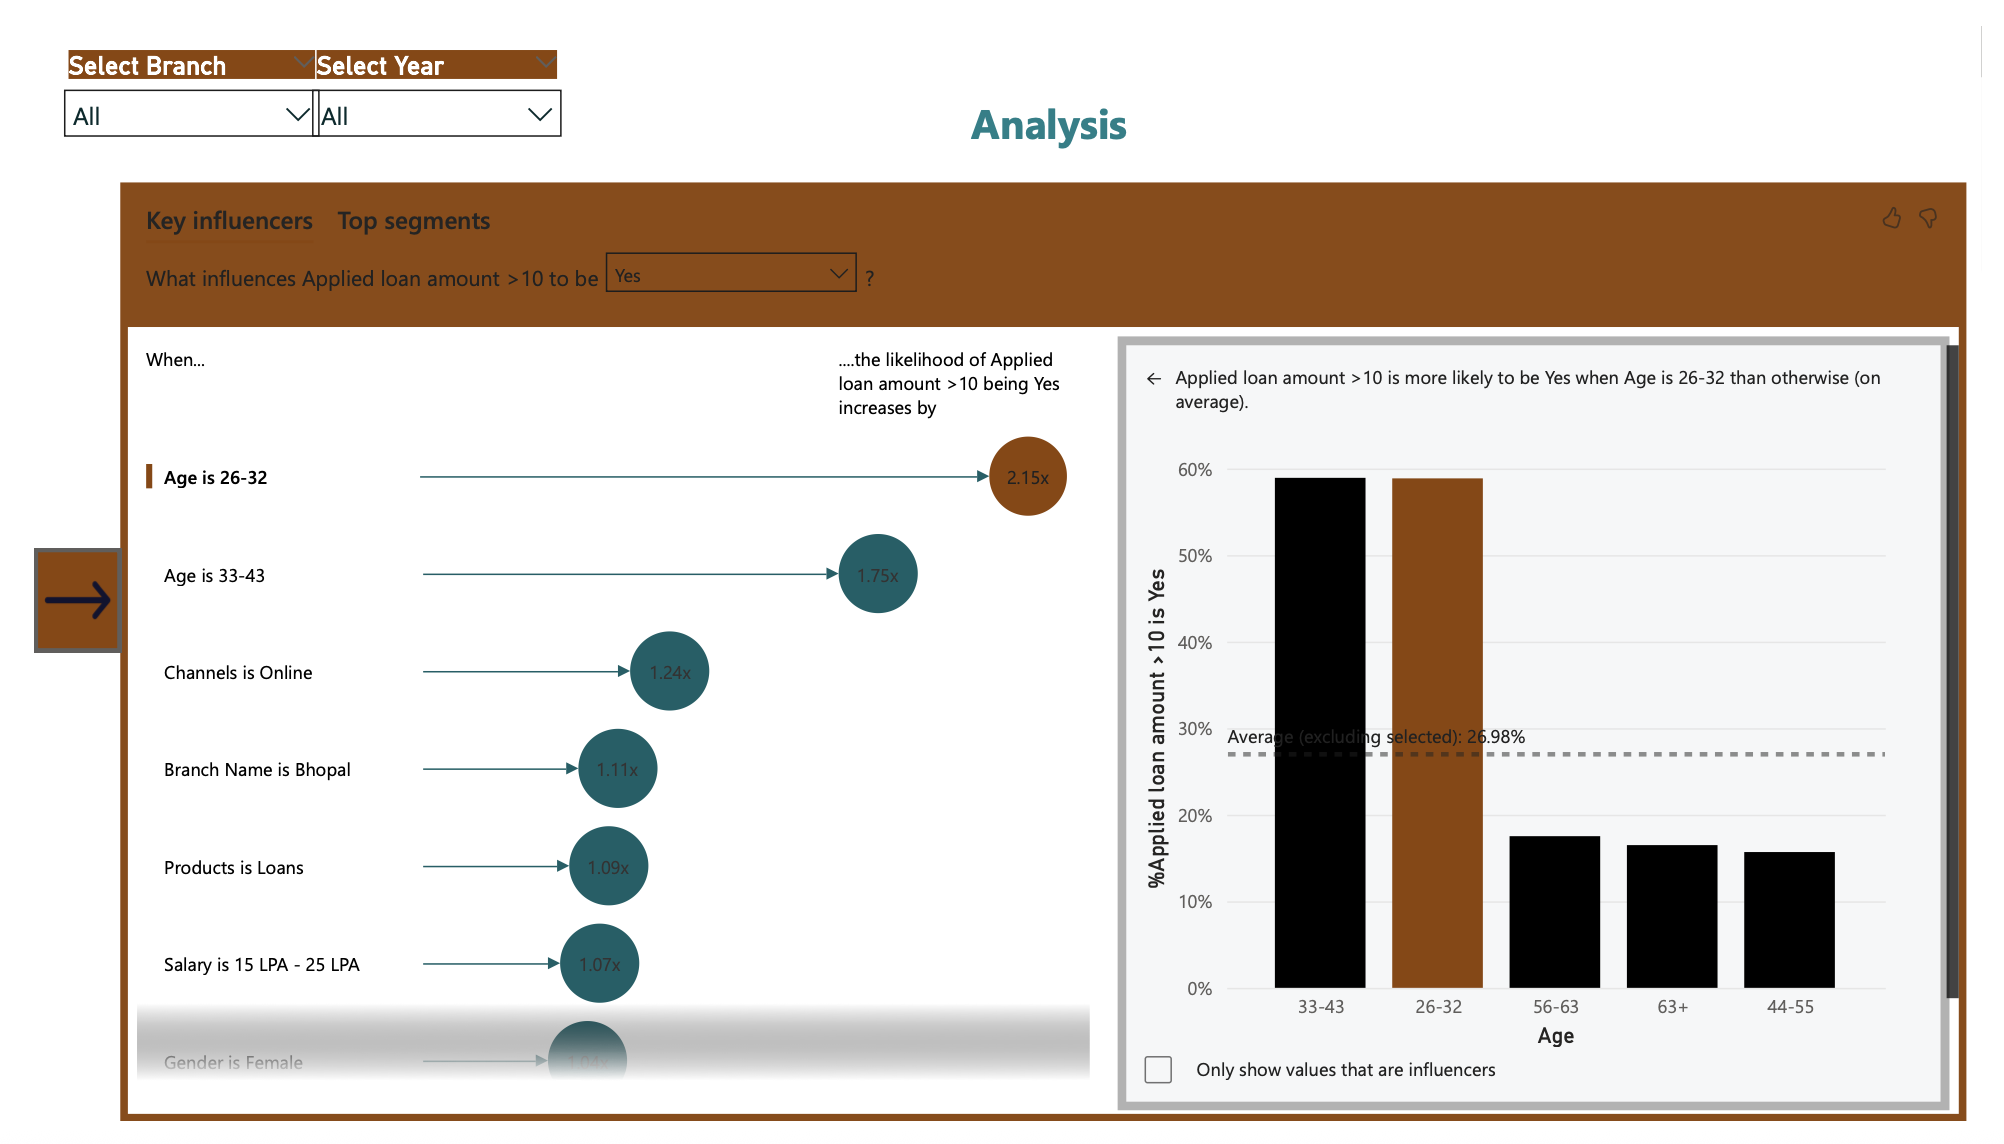

Layout of this report page (visuals, bound fields, positions):
{"tool":"powerbi","page":{"name":"Page 3","canvas":[1280,720],"ordinal":2},"visuals":[{"type":"keyDriversVisual","fields":{"Target":["Customer.Applied loan amount >10"],"ExplainBy":["Customer.Age","Customer.Occupation","Customer.Salary","Customer.Gender","Branch.Branch Name","Channel.Channels","Product.Products"]},"box":[57.2,103.2,1212.9,617],"z":0},{"type":"textbox","box":[546.1,39.8,236.4,126.9],"z":2000},{"type":"slicer","fields":{"Values":["Branch.Branch Name"]},"box":[9.6,11,188,91.9],"z":3000},{"type":"slicer","fields":{"Values":["Customer.Month Year"]},"box":[172.9,11.2,184.1,92.1],"z":4000},{"type":"actionButton","box":[0,343.1,57.6,68.6],"z":5000}]}

Visuals, with their boxes in screenshot pixels (x1, y1, x2, y2), scaled from the page's 1280x720 canvas onto the 2004x1144 screenshot:
keyDriversVisual - Customer.Applied loan amount >10 x Customer.Age: {"x1": 90, "y1": 164, "x2": 1989, "y2": 1143}
textbox: {"x1": 855, "y1": 63, "x2": 1225, "y2": 265}
slicer - Branch.Branch Name: {"x1": 15, "y1": 17, "x2": 309, "y2": 163}
slicer - Customer.Month Year: {"x1": 271, "y1": 18, "x2": 559, "y2": 164}
actionButton: {"x1": 0, "y1": 545, "x2": 90, "y2": 654}
